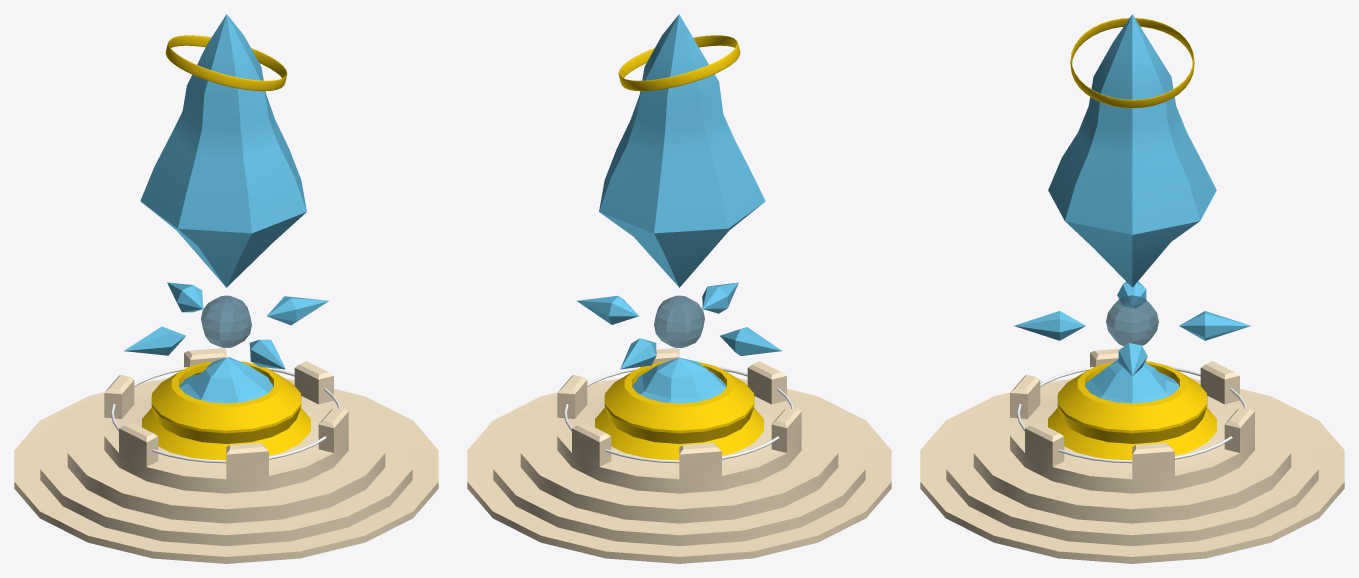
The model's file is Crystal Altar.fbx.
3 renders of one model, left to right at view 1: azimuth 30°, elevation 25°; view 2: azimuth 150°, elevation 25°; view 3: azimuth 270°, elevation 25°, orthographic.
Visible parts, largest first — view 1: CrystalAltar; view 2: CrystalAltar; view 3: CrystalAltar.
Part boxes in pixels (box(x1,y1,x2,y2)): CrystalAltar: box(14, 14, 438, 563); CrystalAltar: box(467, 14, 891, 563); CrystalAltar: box(920, 14, 1344, 563).
Size of the model in its own units: 279 by 328 by 275.
